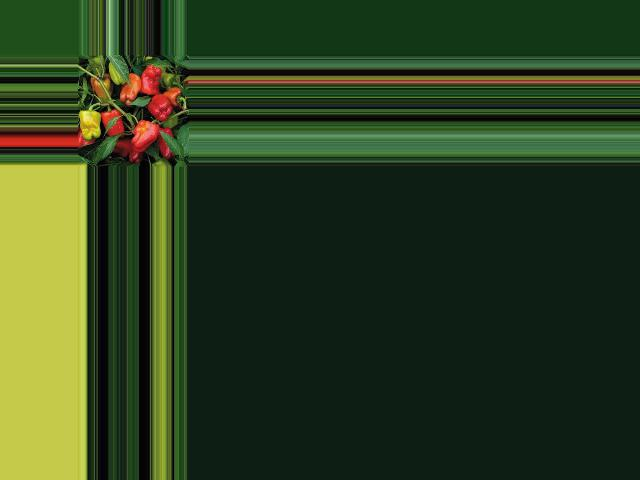bell_pepper: (164, 87, 183, 101)
